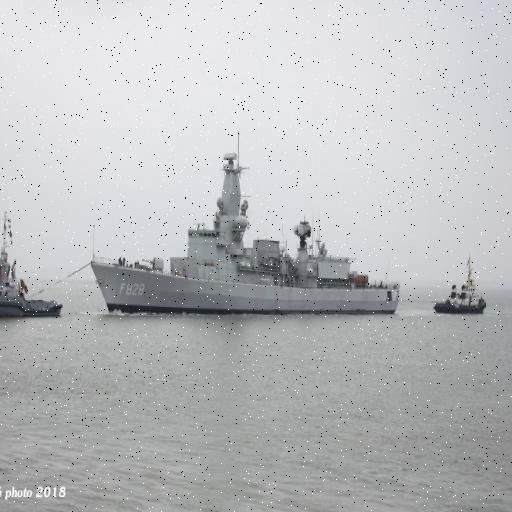Fragata: (87, 124, 403, 316)
